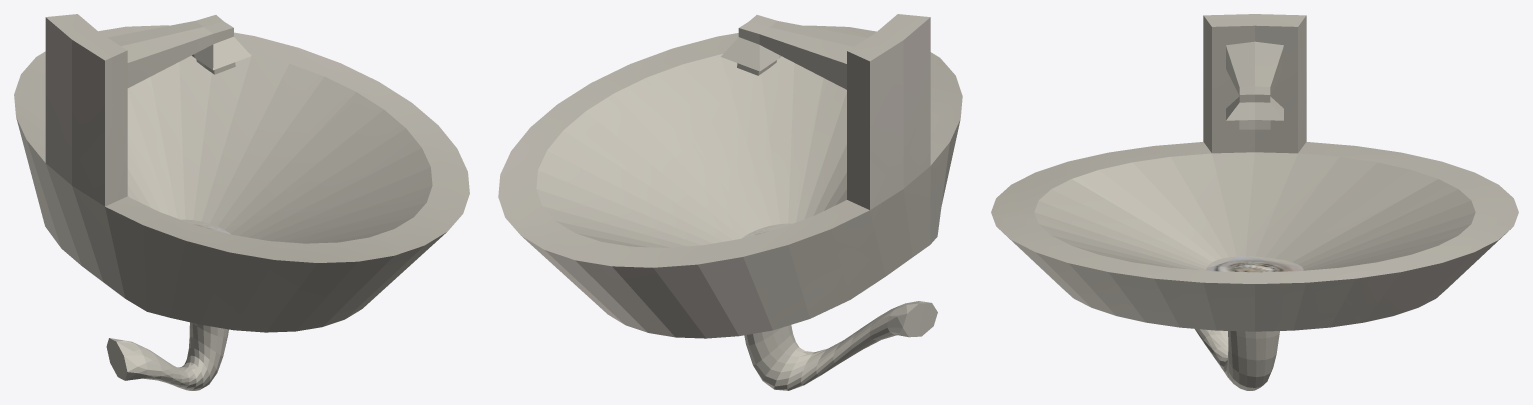
Rendered from lavabo.fbx.
3 views of the same model, side by side, from view 1: azimuth 30°, elevation 25°; view 2: azimuth 150°, elevation 25°; view 3: azimuth 270°, elevation 25° (orthographic). The views are drawn at different scales.
Parts seen in each view (by area): view 1: Cylinder; view 2: Cylinder; view 3: Cylinder.
Part boxes in pixels (box(x1,y1,x2,y2)): Cylinder: box(14, 14, 469, 390); Cylinder: box(498, 14, 962, 390); Cylinder: box(991, 14, 1518, 390).
Bounding box in the file's own units: 155 × 163 × 240.
1 material, 1 textured.
